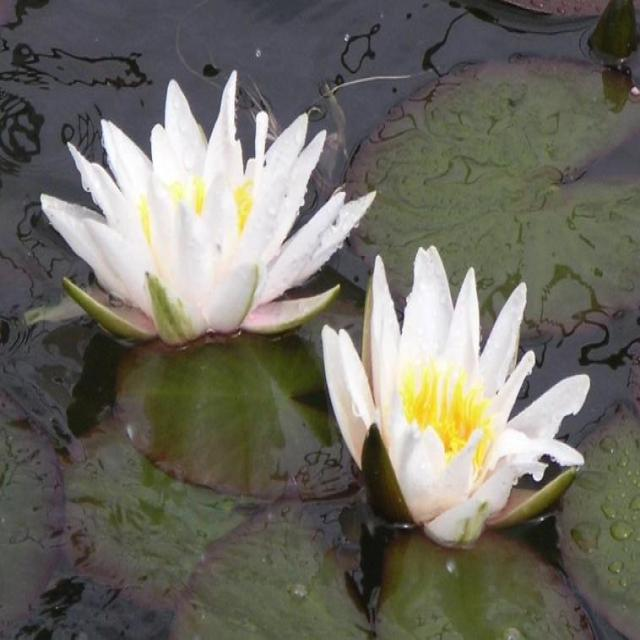rose: (35, 39, 591, 578)
